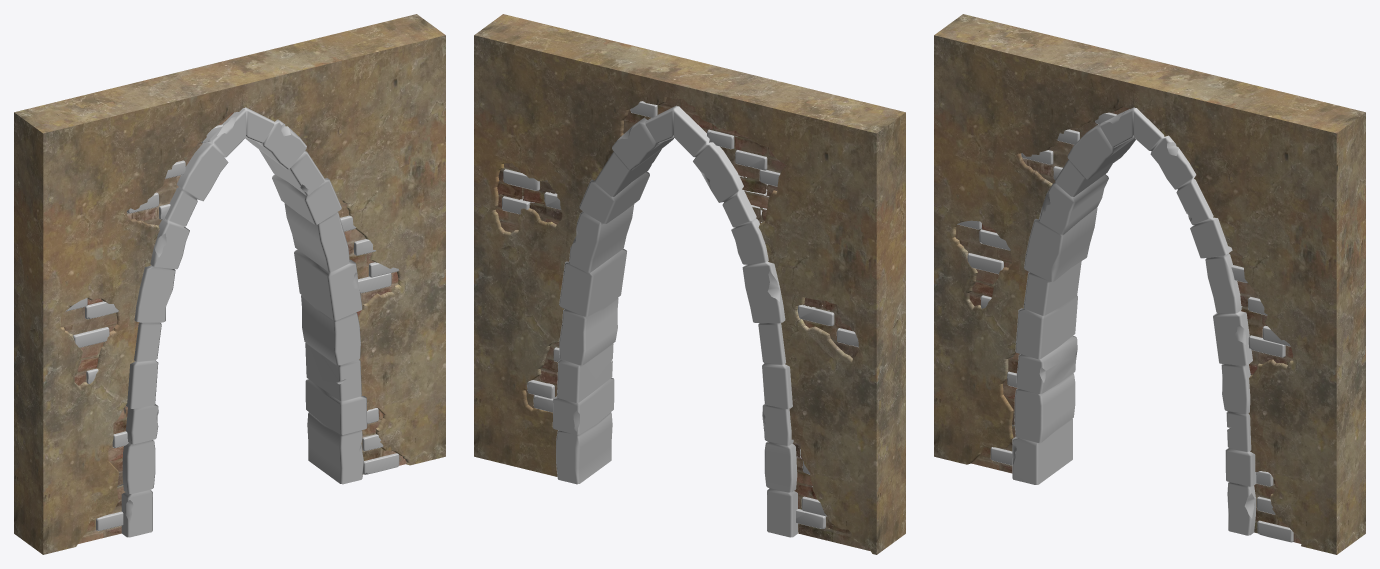
3 renders of one model, left to right at view 1: azimuth 30°, elevation 25°; view 2: azimuth 150°, elevation 25°; view 3: azimuth 330°, elevation 25°, orthographic.
Parts seen in each view (by area): view 1: SM_Human_Ruins_Arch_02_v1_LOD0; view 2: SM_Human_Ruins_Arch_02_v1_LOD0; view 3: SM_Human_Ruins_Arch_02_v1_LOD0.
Part boxes in pixels (left/top/right/bottom): SM_Human_Ruins_Arch_02_v1_LOD0: left=14, top=14, right=445, bottom=554; SM_Human_Ruins_Arch_02_v1_LOD0: left=474, top=14, right=905, bottom=554; SM_Human_Ruins_Arch_02_v1_LOD0: left=934, top=14, right=1365, bottom=554.
Bounding box in the file's own units: 4 × 4 × 0.6301.
